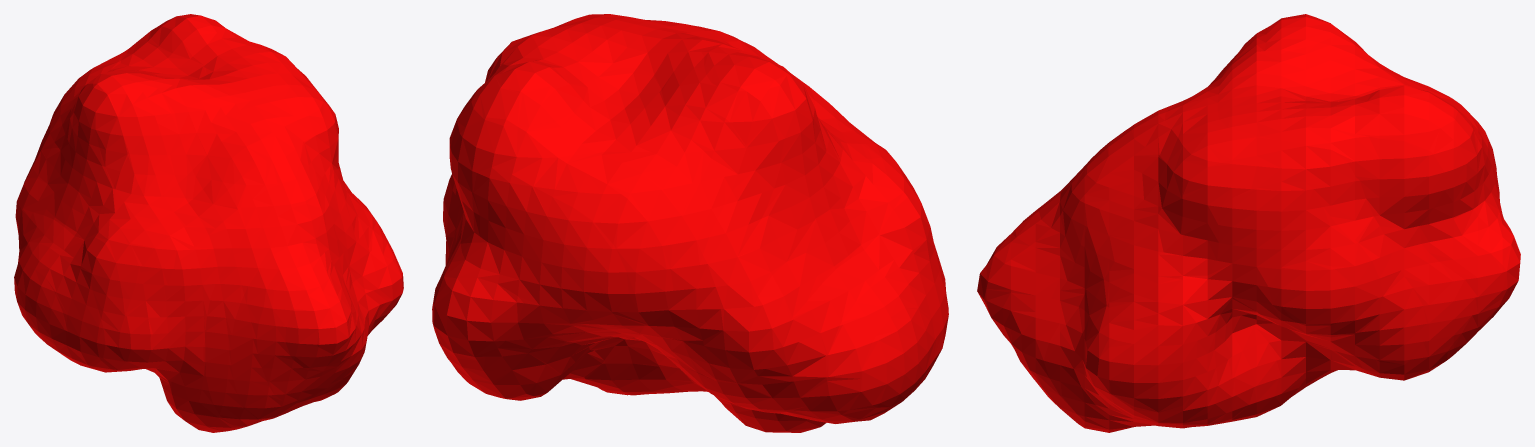
File: yfgD_coarse.dae
The picture shows the model from 3 angles, left to right: view 1: azimuth 30°, elevation 25°; view 2: azimuth 150°, elevation 25°; view 3: azimuth 270°, elevation 25°; orthographic projection. The views are drawn at different scales.
Visible parts, largest first — view 1: yfgD; view 2: yfgD; view 3: yfgD.
Part boxes in pixels (box(x1,y1,x2,y2)): yfgD: box(14, 14, 403, 432); yfgD: box(432, 14, 948, 432); yfgD: box(977, 14, 1520, 432).
Size of the model in its own units: 36.99 by 35.86 by 46.94.
